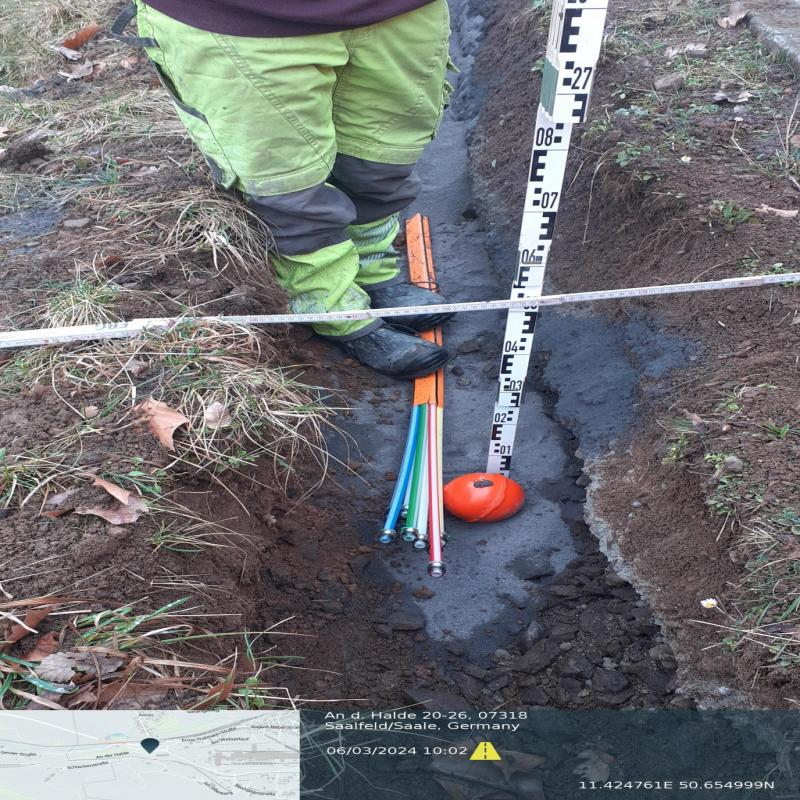Kugelmarker: (436, 471, 520, 525)
Orang-Speednetrohrchen: (409, 213, 446, 289), (415, 334, 449, 403)
